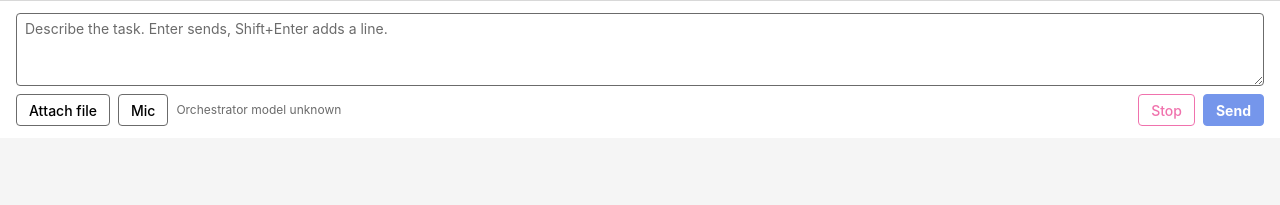
Test: Composer › should show a safe message when the microphone is refused
The width and height of the screenshot is (1280, 205).
Click the button with aria-label "Record voice input" at (143, 110), box [118,94,168,126]
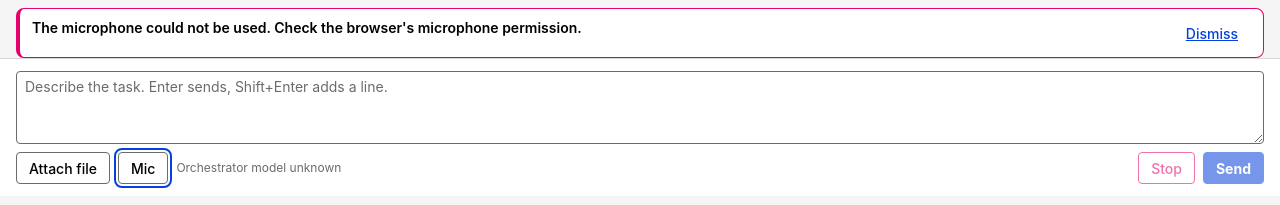
Expected: the message does not show "Permission denied", [16,8,1264,58]
Result: the message shows "The microphone could not be used." at [32,19,582,36]
